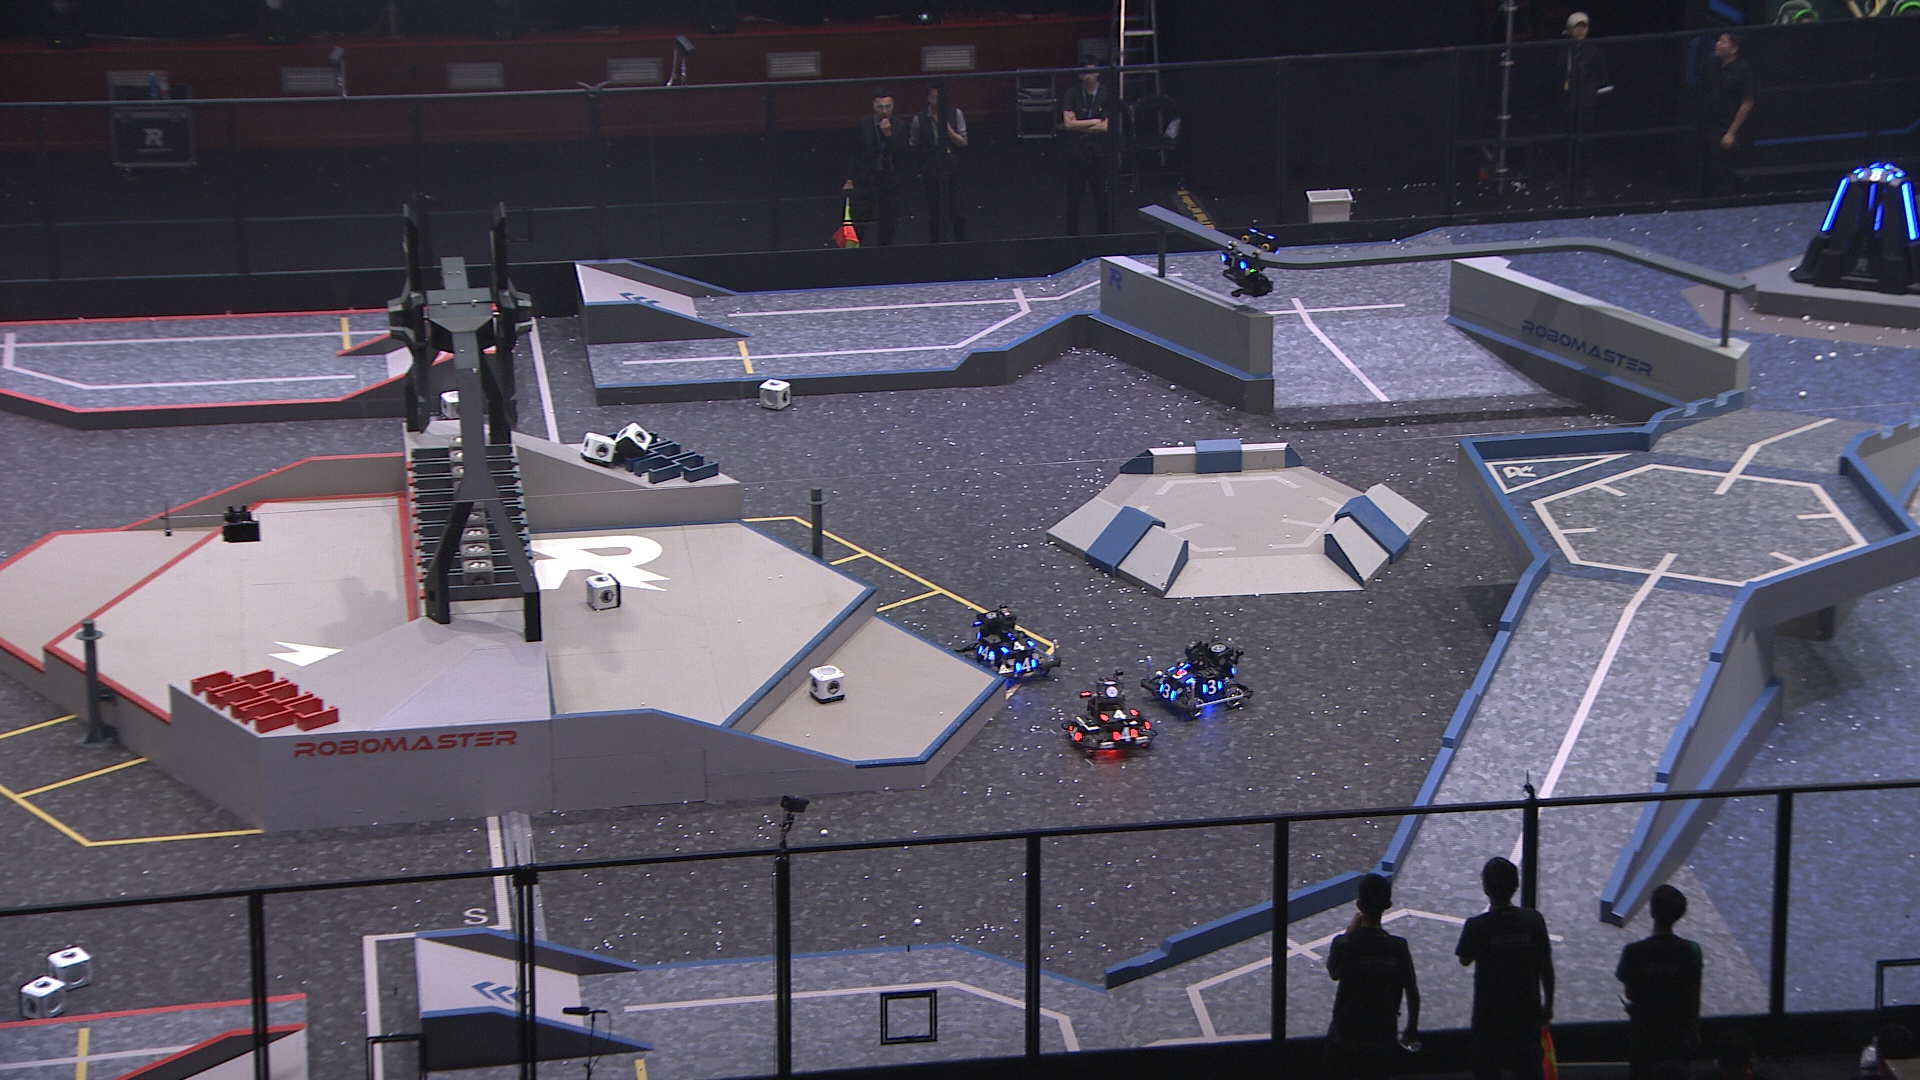armor: (1818, 178, 1849, 233), (1902, 183, 1917, 239), (1858, 164, 1894, 182), (1097, 705, 1135, 723), (1222, 251, 1247, 272), (1167, 665, 1193, 683), (1112, 727, 1139, 744), (1011, 655, 1039, 673), (977, 641, 997, 665), (1000, 637, 1031, 651), (1155, 680, 1178, 700), (1866, 185, 1879, 214), (1203, 679, 1222, 698), (1065, 725, 1083, 744)
base: (1789, 154, 1920, 291)
car: (1141, 636, 1251, 719), (1060, 674, 1159, 757), (961, 608, 1063, 687)
watcher: (1220, 219, 1283, 295)
